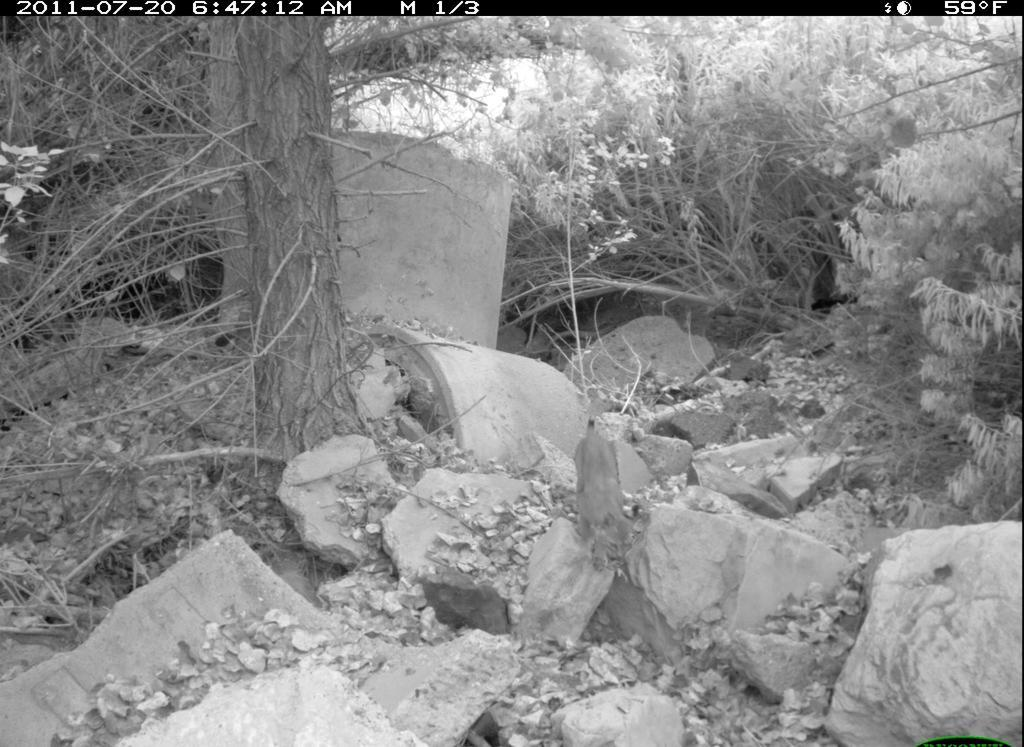bobcat: (571, 385, 649, 584)
